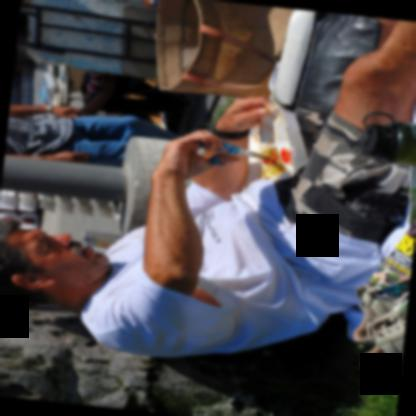handbag: (151, 0, 274, 96)
